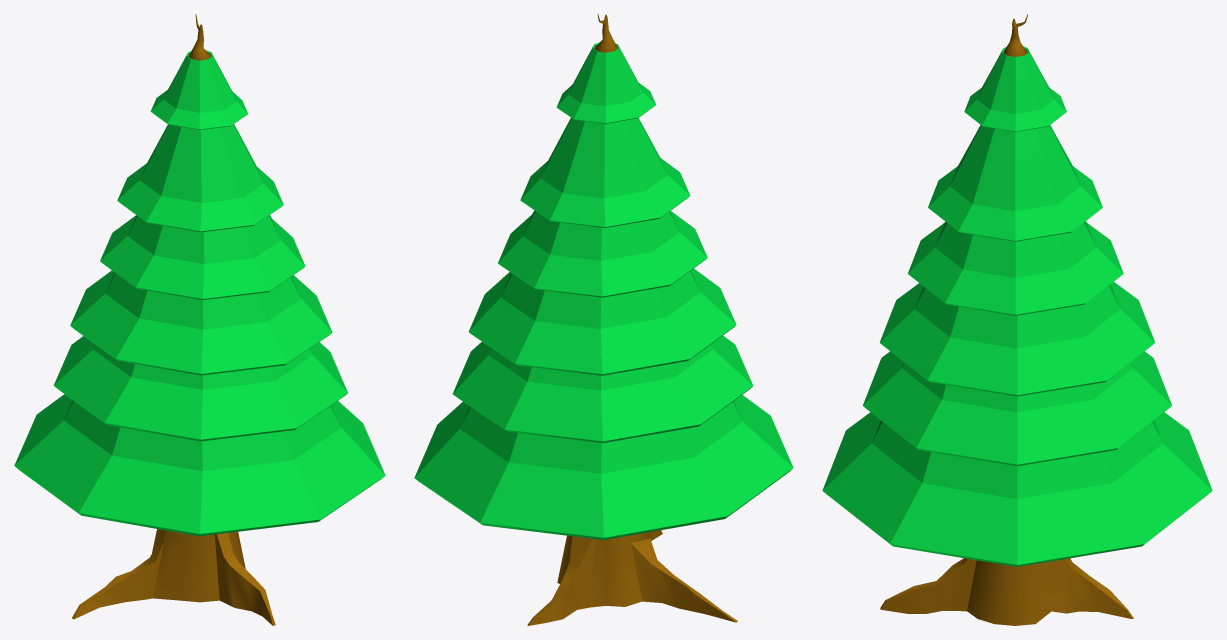
File: Pinetree.fbx
3 renders of one model, left to right at view 1: azimuth 30°, elevation 25°; view 2: azimuth 150°, elevation 25°; view 3: azimuth 270°, elevation 25°, orthographic. The views are drawn at different scales.
Parts seen in each view (by area): view 1: pCone1, pasted__pasted__pasted__pCone1 (×3), pasted__pCone1, pasted__pasted__pCone1, pCylinder1; view 2: pCone1, pasted__pasted__pasted__pCone1 (×3), pasted__pCone1, pasted__pasted__pCone1, pCylinder1; view 3: pCone1, pasted__pasted__pasted__pCone1 (×3), pasted__pasted__pCone1, pasted__pCone1, pCylinder1.
Part boxes in pixels (x1,y1,x2,y2): pCone1: (14, 394, 385, 536); pasted__pasted__pasted__pCone1 (×3): (100, 50, 305, 300); pasted__pCone1: (53, 336, 347, 441); pasted__pasted__pCone1: (70, 270, 332, 375); pCylinder1: (72, 14, 275, 625); pCone1: (414, 395, 793, 539); pasted__pasted__pasted__pCone1 (×3): (498, 42, 707, 297); pasted__pCone1: (452, 335, 753, 443); pasted__pasted__pCone1: (468, 268, 736, 375); pCylinder1: (527, 14, 737, 625); pCone1: (822, 412, 1212, 566); pasted__pasted__pasted__pCone1 (×3): (907, 46, 1123, 315); pasted__pasted__pCone1: (879, 282, 1155, 396); pasted__pCone1: (863, 351, 1171, 466); pCylinder1: (880, 14, 1133, 625).
Size of the model in its own units: 3.1 by 5.32 by 3.15.
